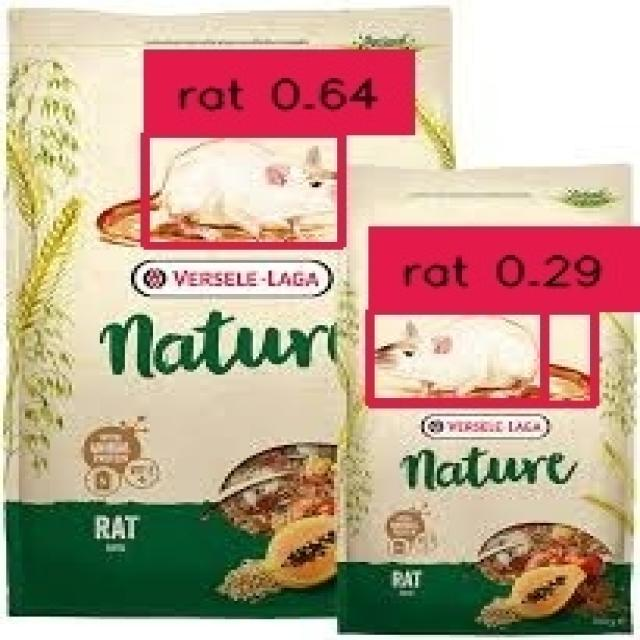rat: (141, 130, 337, 242), (365, 307, 590, 401), (365, 307, 540, 398)
